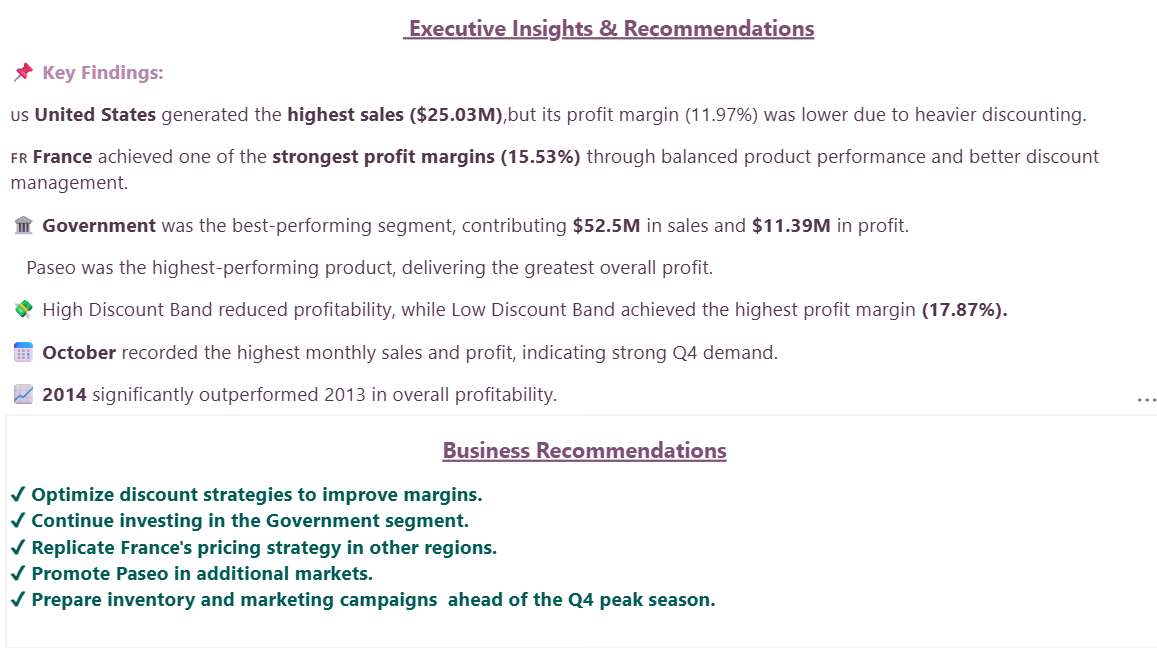

This screenshot's page, from the dashboard's own definition file:
{"tool":"powerbi","page":{"name":"Executive insights","canvas":[1280,720],"ordinal":2},"visuals":[{"type":"textbox","box":[9.6,0,1270.7,463.8],"z":0},{"type":"textbox","box":[9.6,463.8,1270.7,256.6],"z":1000}]}

Visuals, with their boxes in screenshot pixels (x1, y1, x2, y2), scaled from the page's 1280x720 canvas onto the 1157x648 screenshot:
textbox: {"left": 9, "top": 0, "right": 1156, "bottom": 417}
textbox: {"left": 9, "top": 417, "right": 1156, "bottom": 647}
